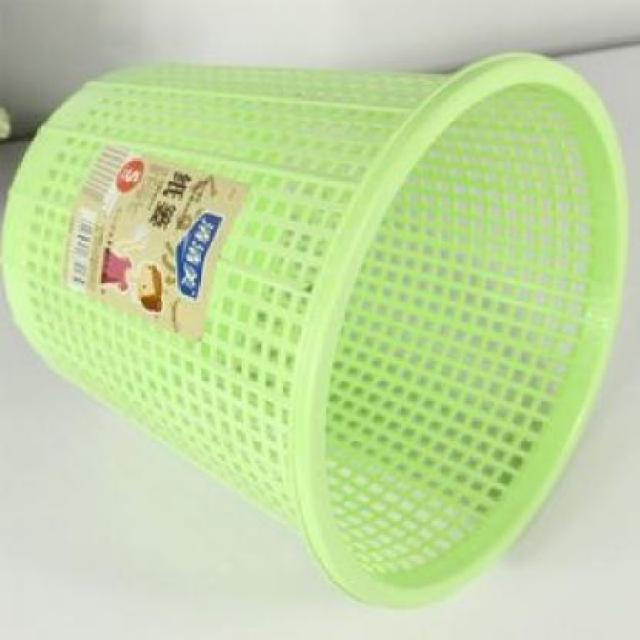dustbin: (3, 44, 635, 614)
